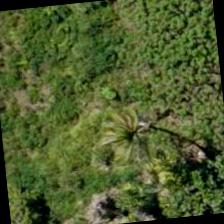Kelapa_Sawit: (152, 97, 223, 195)
